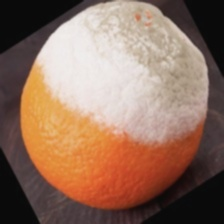orange: (13, 20, 168, 193)
